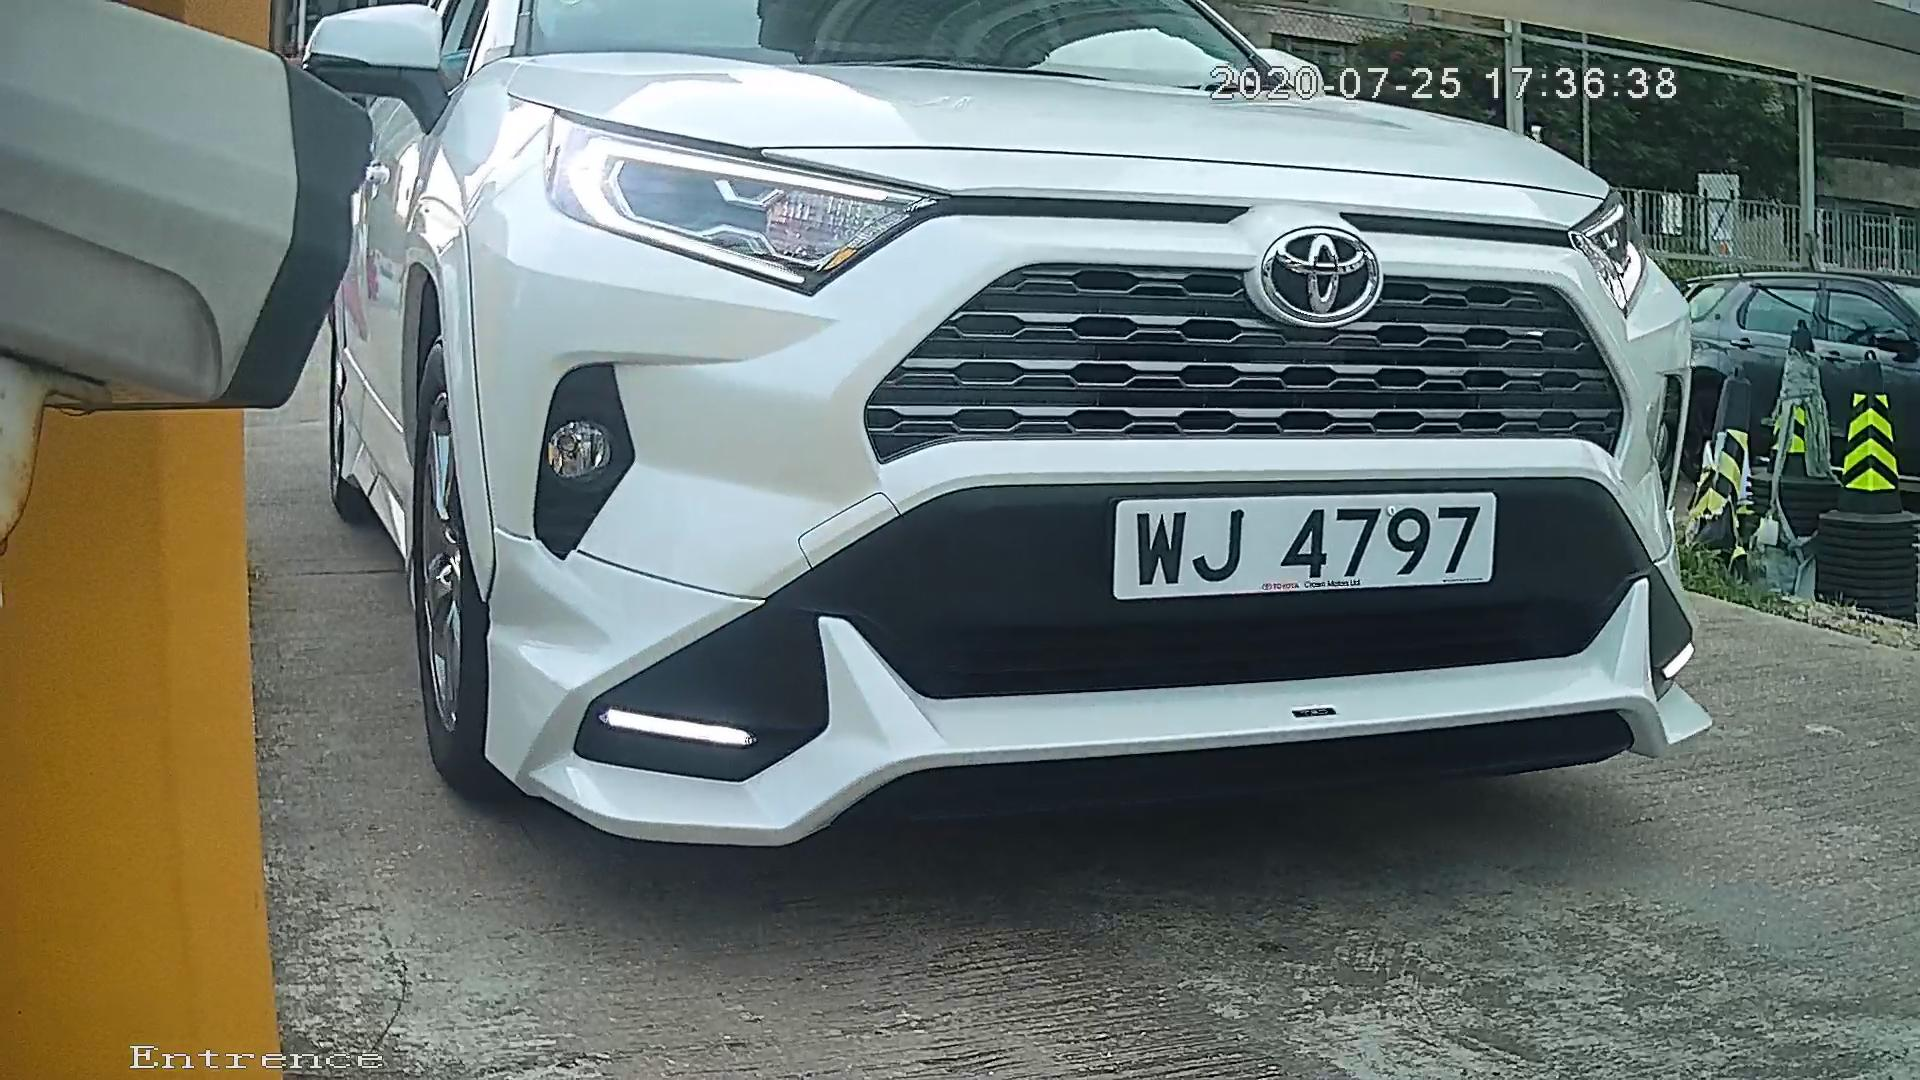Car: (181, 1, 1861, 888)
License Plate: (1098, 468, 1526, 618)
